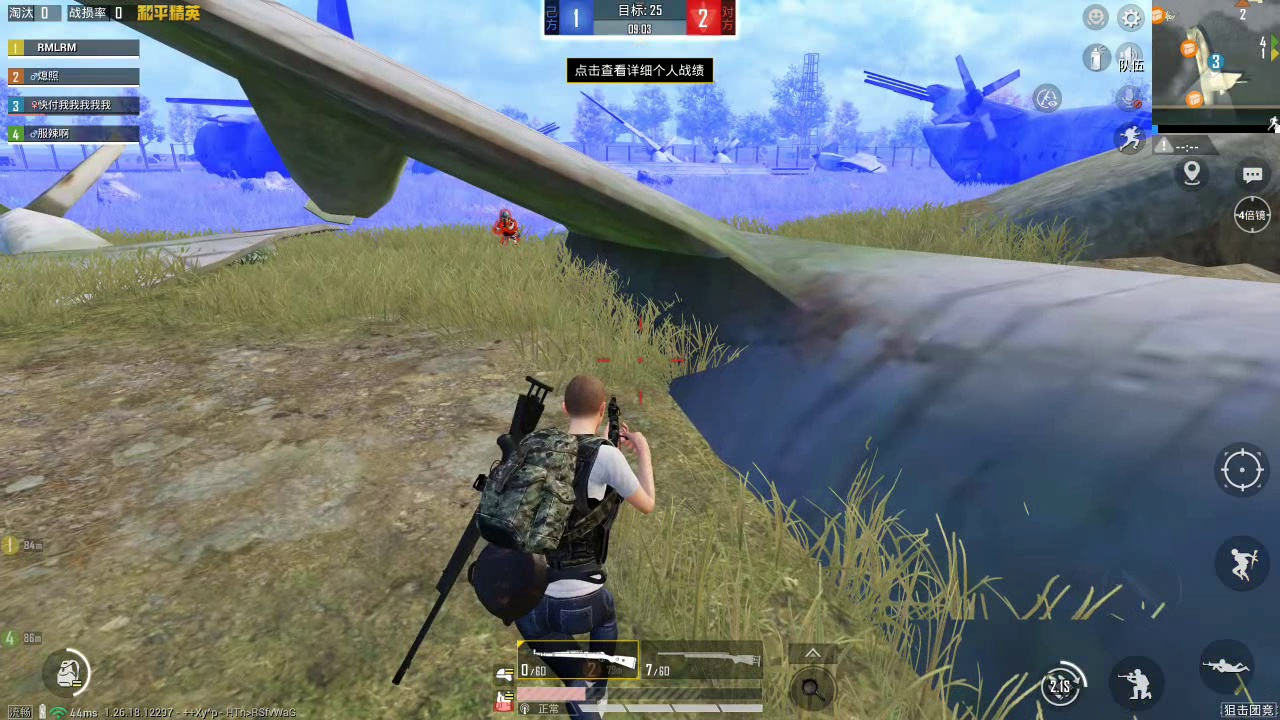enemy: (494, 207, 524, 246)
